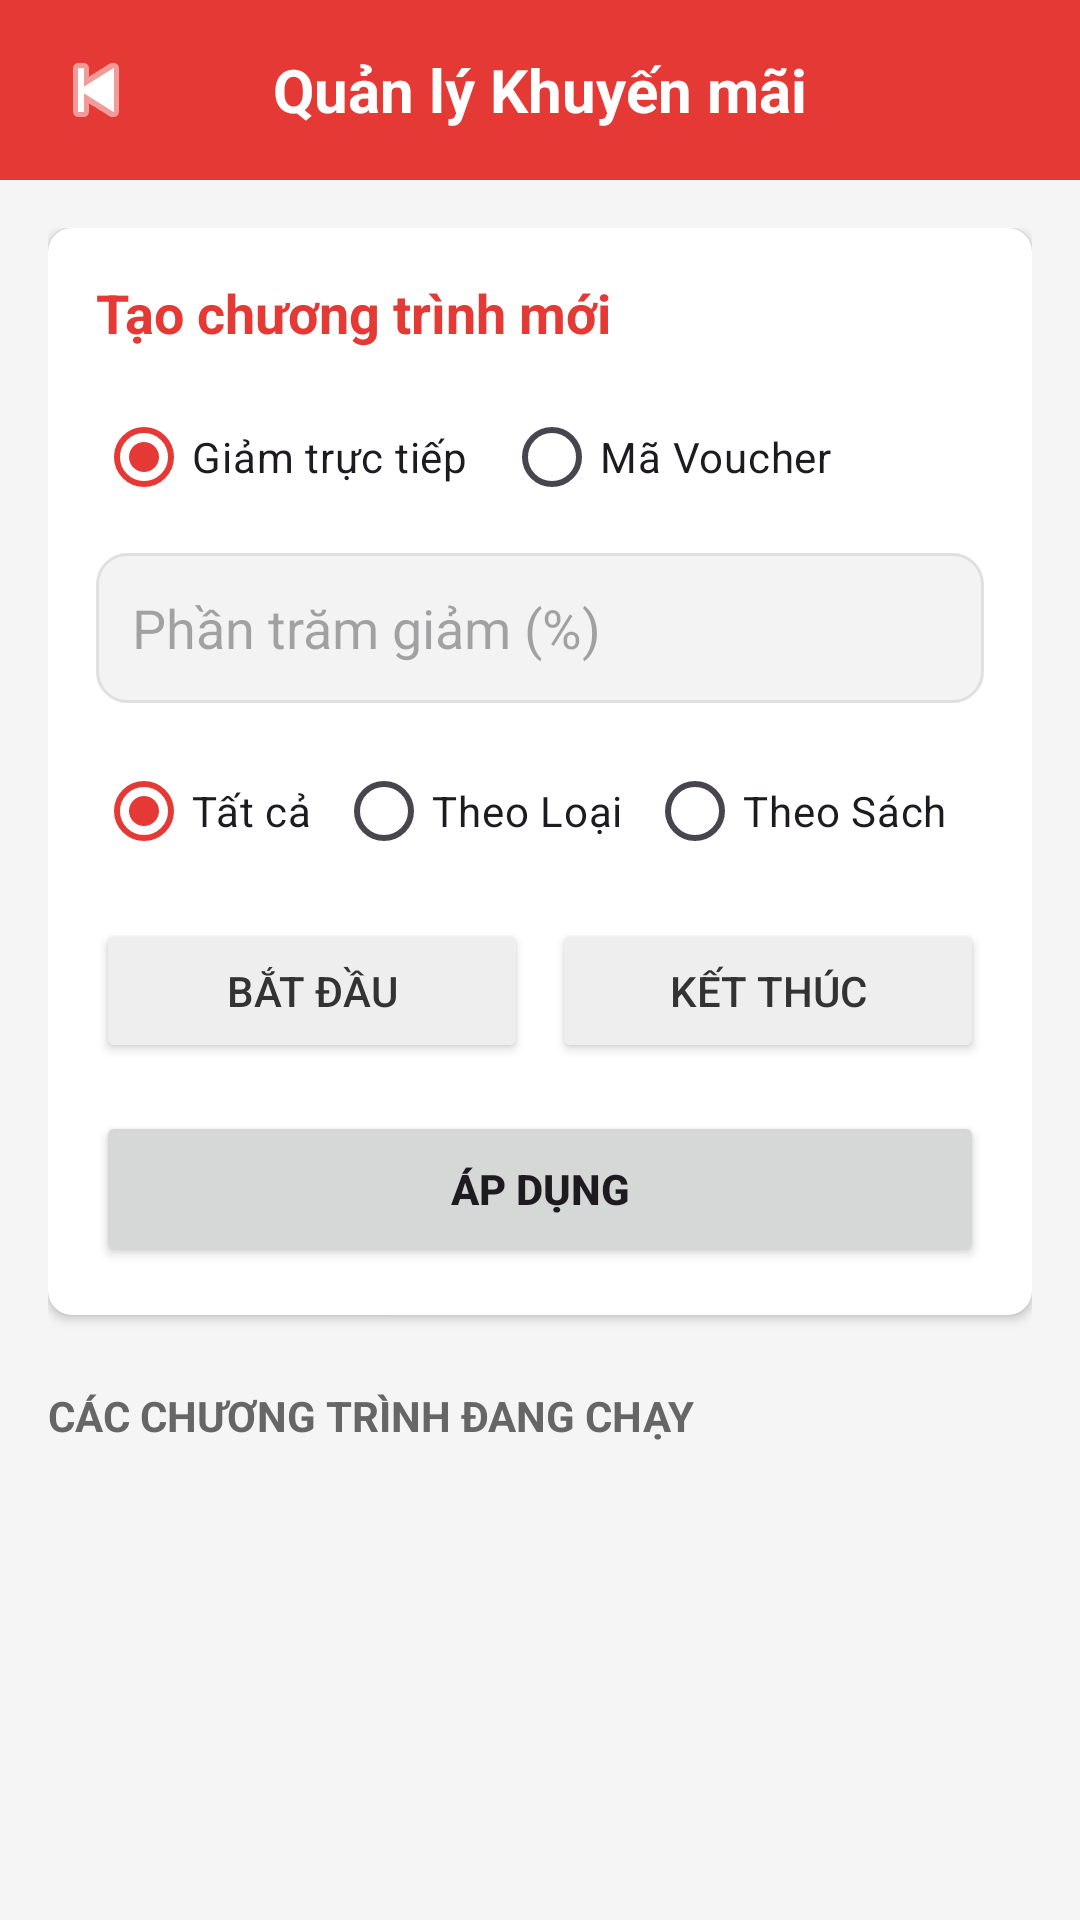

Locate icon controls on the screen. Image size 1080 × 1920, boxes as rect(x1, y1, x2, y2).
previous: rect(73, 63, 119, 117)
